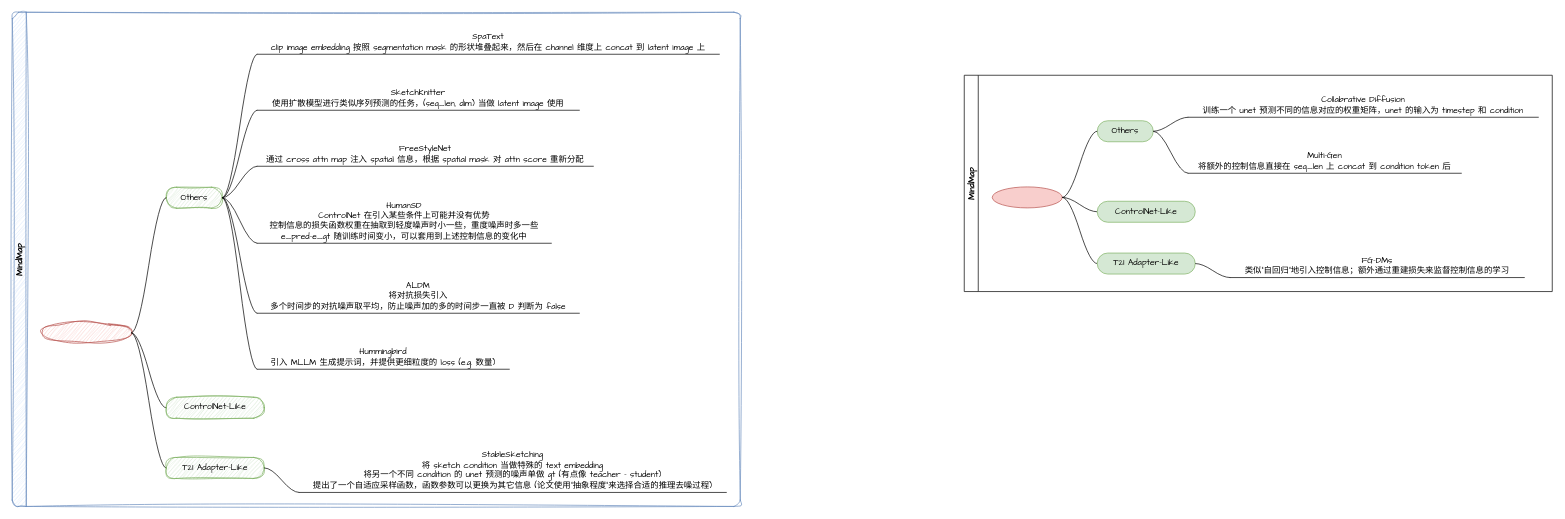
Some shapes in this 1565 by 519 pixel diagram are drawn without their labels. Here are the shapes that lost their labels. From the top down, the box of each, then its label:
(992, 186, 1062, 208): Uni-Control
(40, 322, 131, 343): Adding Condition
